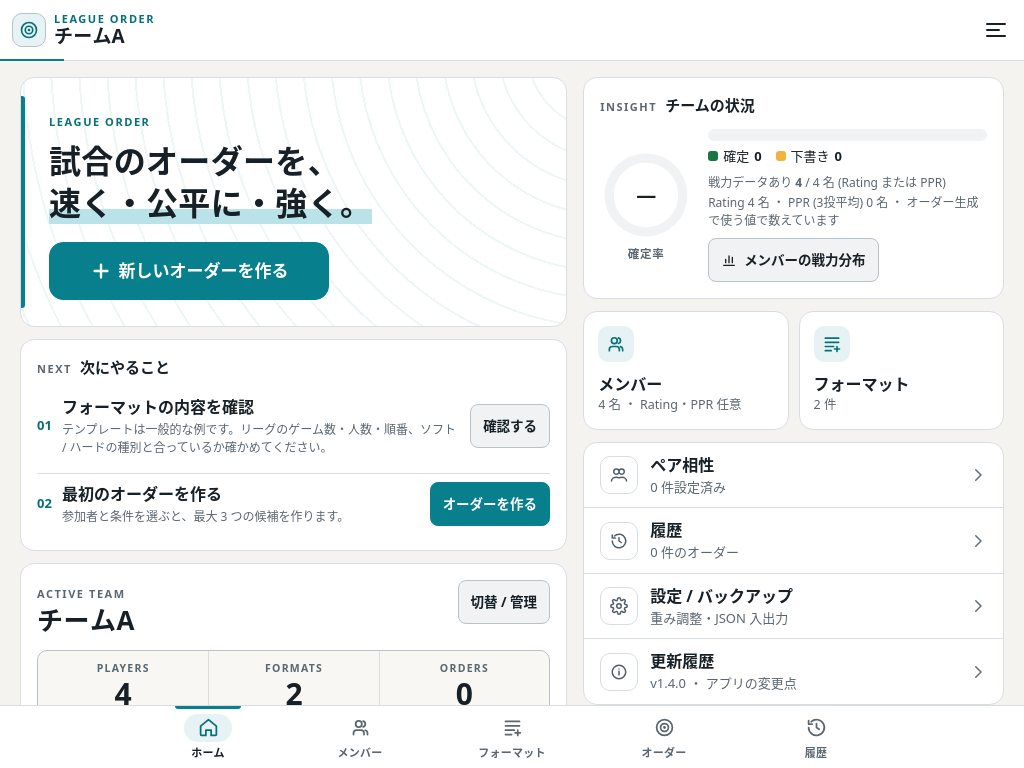
a stored self-contradicting format › is listed as 要修正 and left untouched in storage until the captain edits it
Expected: the heading named "チームA" is shown, x1=53 y1=22 x2=125 y2=49
Click the button "フォーマット": (512, 737) x1=436 y1=706 x2=588 y2=767
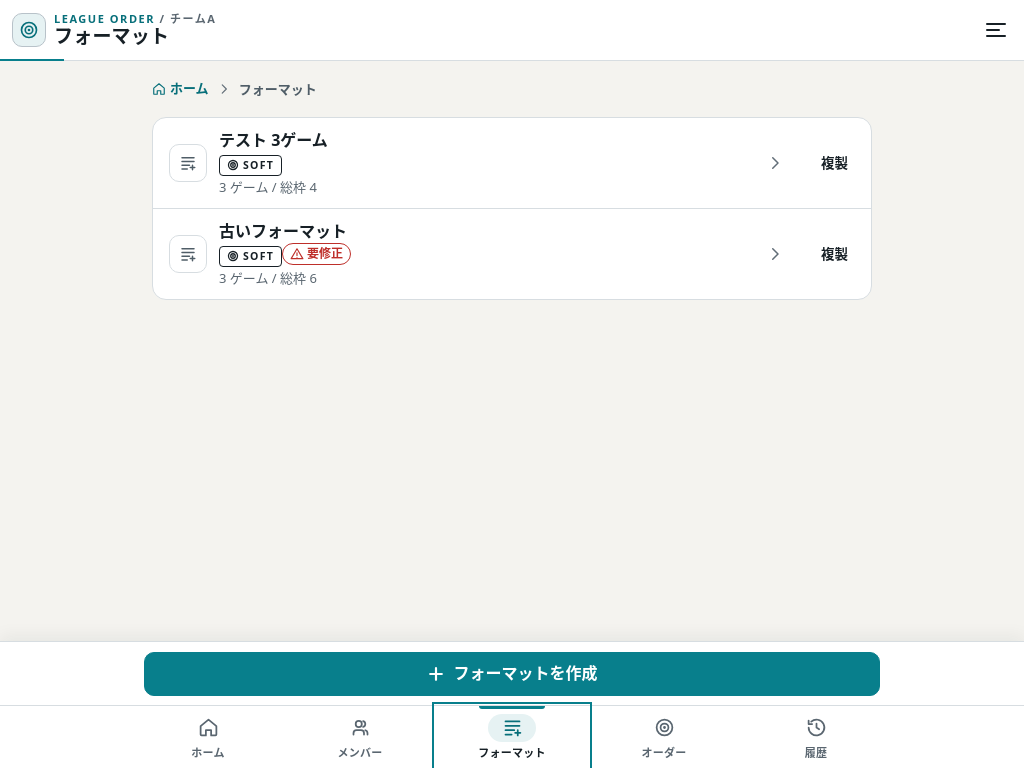
Now the element with test id "format-issue-tag" reads "要修正", box x1=307 y1=245 x2=343 y2=262
